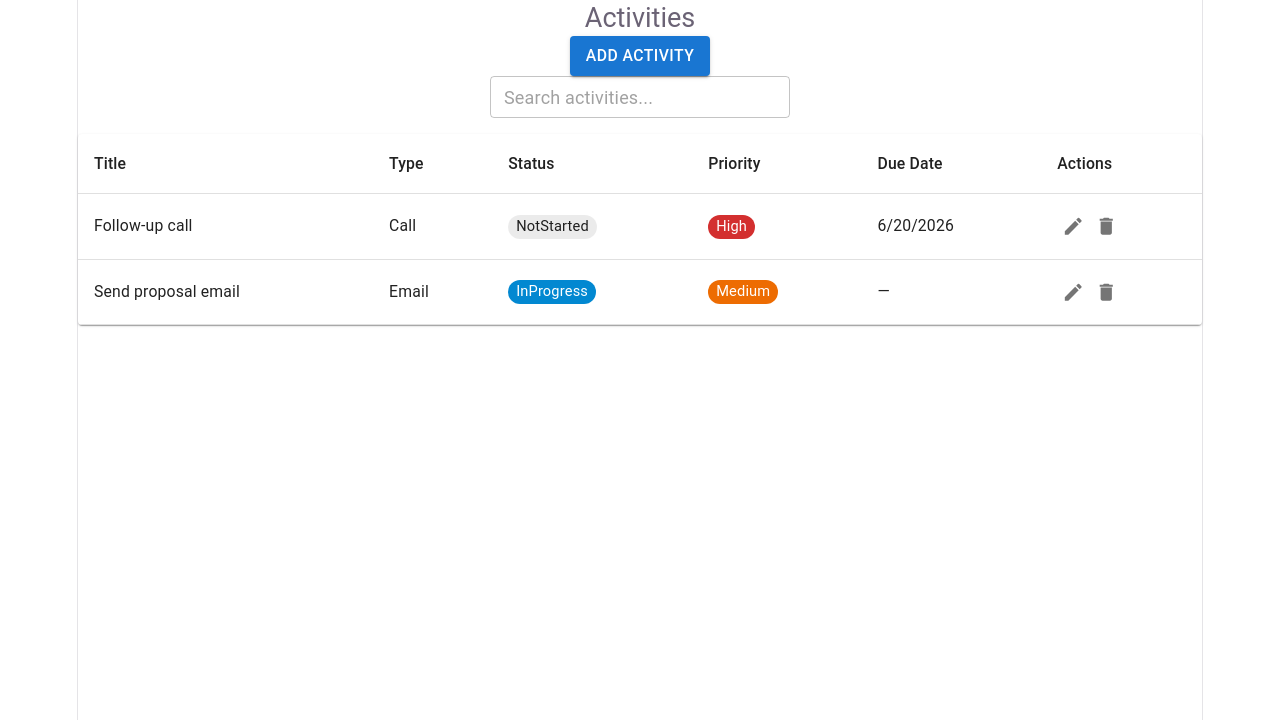
ActivityListPage › opens create dialog on Add button click
The width and height of the screenshot is (1280, 720).
Expected: the text "Follow-up call" is shown, [78,194,373,260]
Click the button "Add Activity" at (640, 56), box [570,36,710,76]
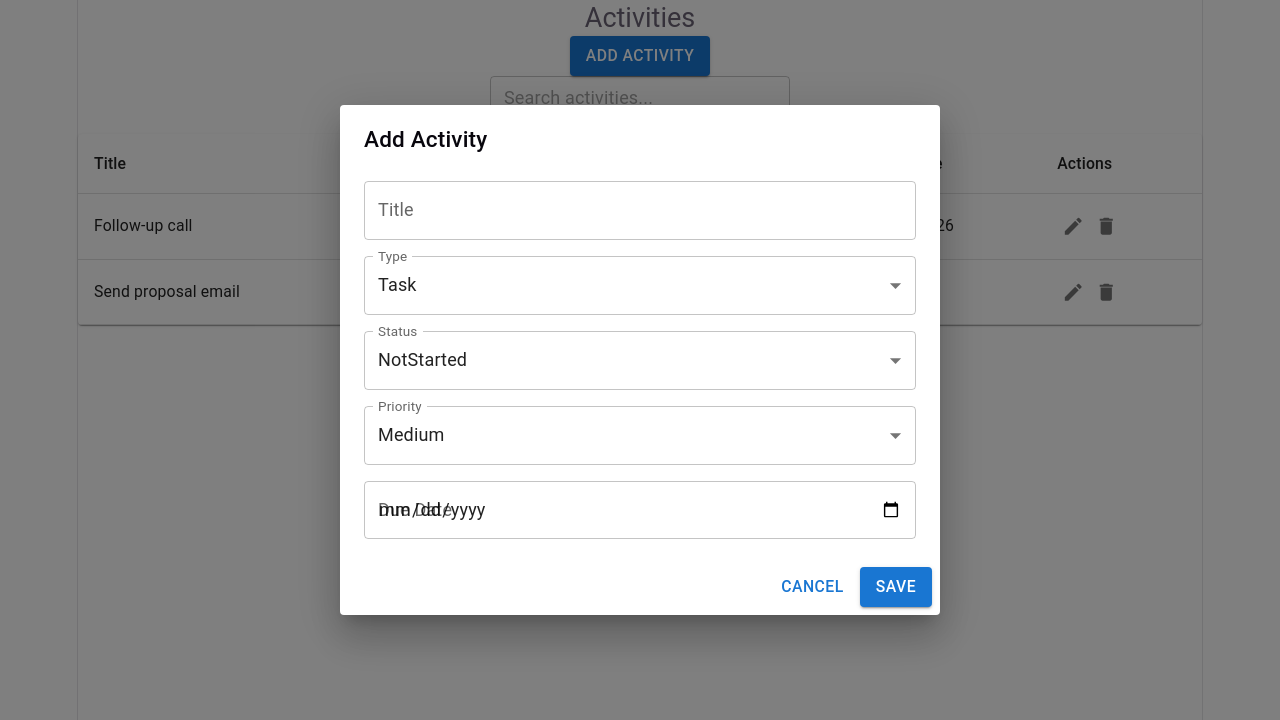
Result: the dialog is shown at [340,105,940,615]
